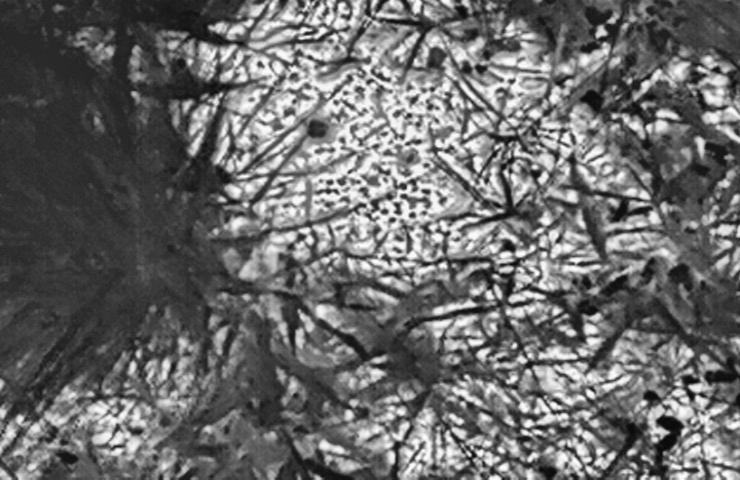landmines: (175, 5, 679, 353)
